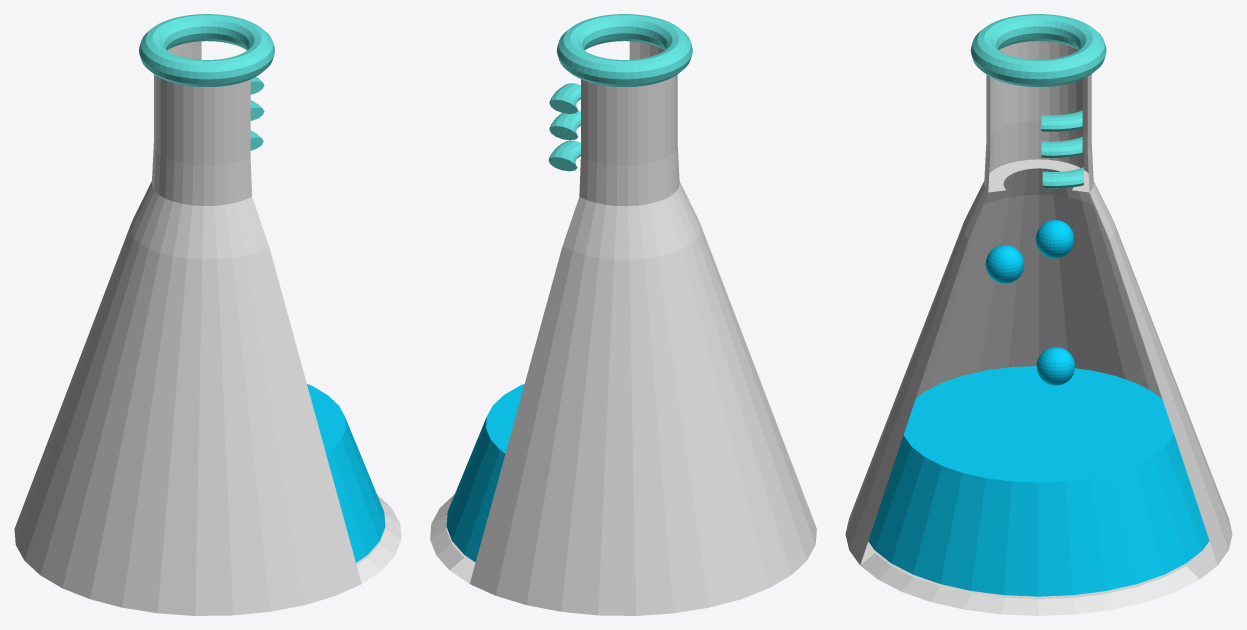
File: chemistry.fbx
3 renders of one model, left to right at view 1: azimuth 30°, elevation 25°; view 2: azimuth 150°, elevation 25°; view 3: azimuth 270°, elevation 25°, orthographic.
Visible parts, largest first — view 1: plask, Torus, fluid; view 2: plask, Torus, fluid, Torus.003, Torus.001, Torus.002; view 3: fluid, plask, Torus, Sphere, Sphere.001, Sphere.002, Torus.003, Torus.002, Torus.001.
Part boxes in pixels (left/top/right/bottom): plask: left=14, top=41, right=401, bottom=615; Torus: left=139, top=14, right=274, bottom=86; fluid: left=307, top=384, right=385, bottom=562; plask: left=430, top=41, right=816, bottom=615; Torus: left=556, top=14, right=692, bottom=86; fluid: left=446, top=384, right=524, bottom=562; Torus.003: left=548, top=140, right=580, bottom=171; Torus.001: left=549, top=83, right=580, bottom=113; Torus.002: left=549, top=110, right=580, bottom=140; fluid: left=868, top=366, right=1209, bottom=596; plask: left=845, top=41, right=1232, bottom=615; Torus: left=970, top=14, right=1106, bottom=86; Sphere: left=985, top=245, right=1024, bottom=283; Sphere.001: left=1036, top=347, right=1075, bottom=385; Sphere.002: left=1035, top=220, right=1074, bottom=258; Torus.003: left=1042, top=167, right=1083, bottom=188; Torus.002: left=1041, top=136, right=1082, bottom=158; Torus.001: left=1041, top=110, right=1082, bottom=131.
Bounding box in the file's own units: 200 × 282 × 200.
